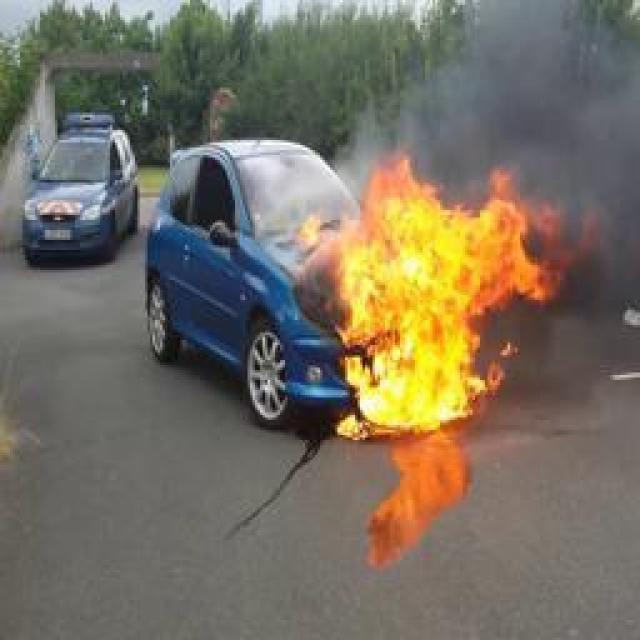Fire: (302, 144, 600, 438)
